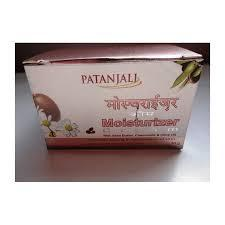Cardboard: (19, 41, 206, 175)
